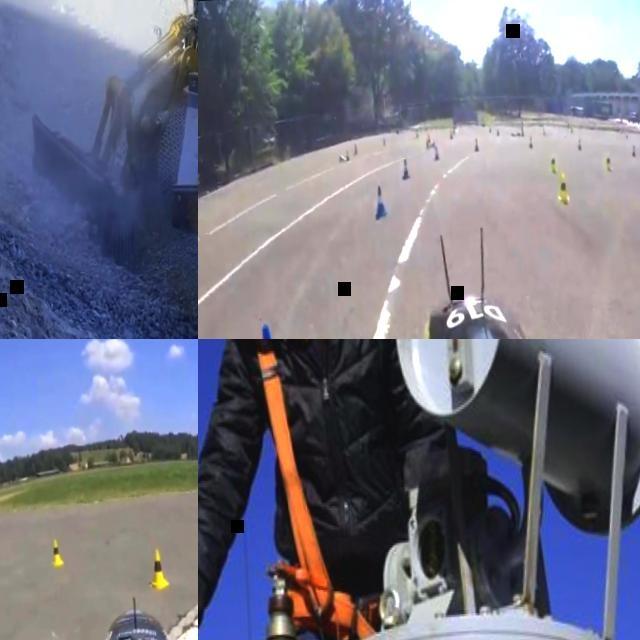NO-Safety Vest: (263, 339, 413, 586)
Person: (198, 339, 478, 640)
Safety Cone: (147, 544, 172, 591), (252, 313, 290, 339), (554, 168, 571, 206), (371, 183, 390, 215), (51, 536, 65, 568), (400, 153, 411, 188), (605, 149, 614, 170), (550, 153, 558, 172), (473, 134, 480, 151), (433, 145, 441, 159), (345, 148, 351, 164), (631, 140, 636, 155), (428, 138, 436, 147), (339, 153, 346, 161), (529, 133, 533, 147), (426, 136, 430, 149), (382, 136, 387, 146), (415, 128, 419, 138), (449, 129, 453, 138), (578, 137, 581, 148), (521, 125, 524, 135), (497, 127, 500, 135), (453, 127, 455, 134), (489, 125, 491, 132)
machinery: (14, 0, 198, 266), (154, 18, 198, 339)
